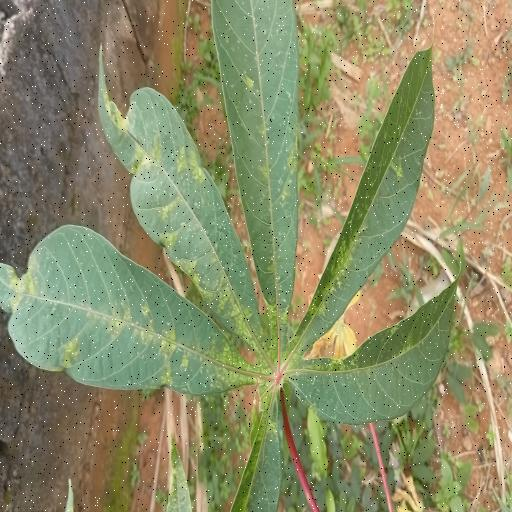Cassava_Mosaic: (0, 0, 464, 512)
